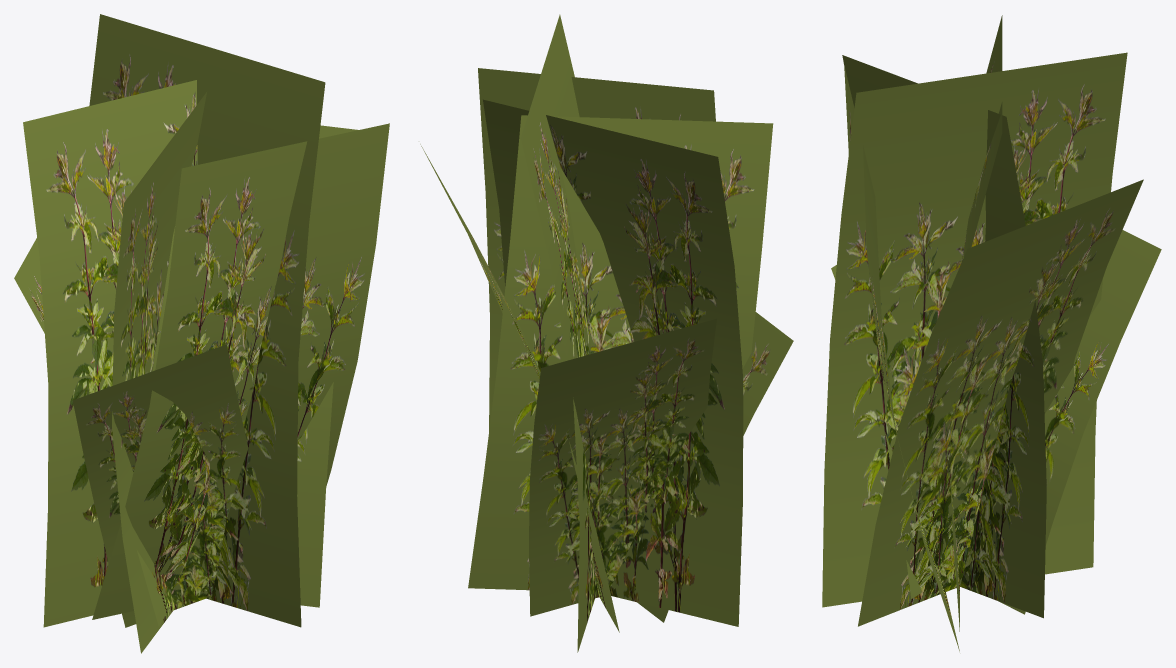
Rendered from Grass_03.fbx.
The picture shows the model from 3 angles, left to right: view 1: azimuth 30°, elevation 25°; view 2: azimuth 150°, elevation 25°; view 3: azimuth 270°, elevation 25°; orthographic projection. The views are drawn at different scales.
Parts seen in each view (by area): view 1: Grass_03; view 2: Grass_03; view 3: Grass_03.
Boxes of the visible parts, x1,y1,x2,y2 form: Grass_03: [14, 14, 389, 653]; Grass_03: [420, 14, 793, 652]; Grass_03: [822, 15, 1161, 651].
Size of the model in its own units: 66.38 by 103 by 57.22.
1 material, 1 textured.
